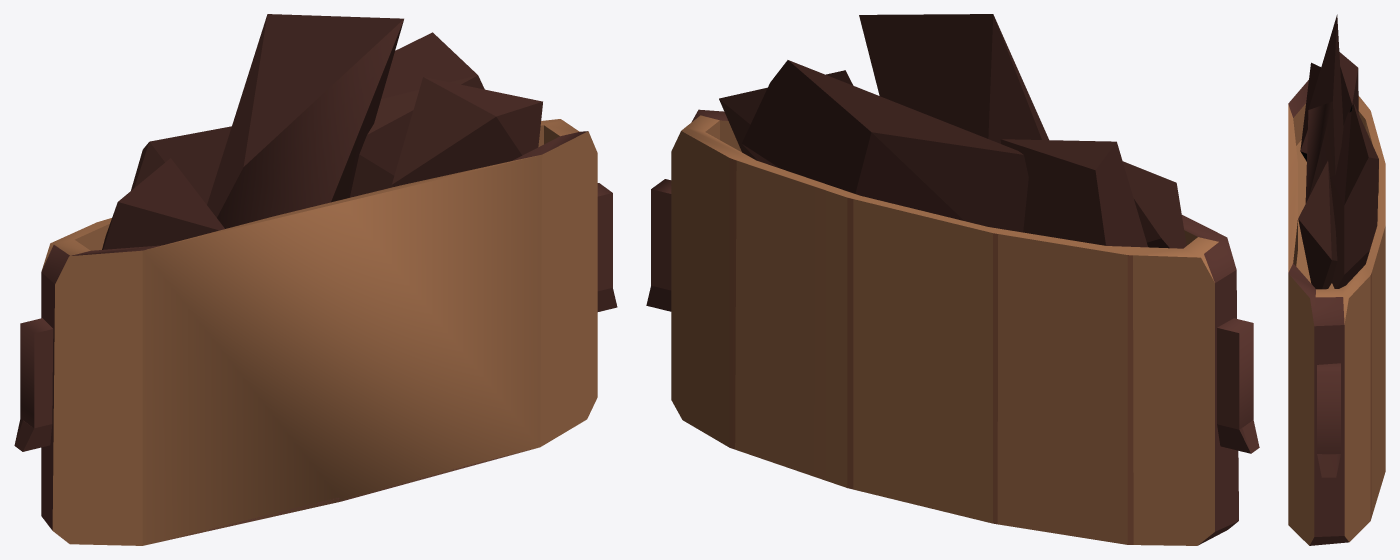
File: icon_coal_ore.fbx
The picture shows the model from 3 angles, left to right: view 1: azimuth 30°, elevation 25°; view 2: azimuth 150°, elevation 25°; view 3: azimuth 270°, elevation 25°; orthographic projection. The views are drawn at different scales.
Visible parts, largest first — view 1: icon_coal_ore; view 2: icon_coal_ore; view 3: icon_coal_ore.
Boxes of the visible parts, bbox=[...] form: icon_coal_ore: bbox=[14, 14, 617, 545]; icon_coal_ore: bbox=[646, 14, 1259, 545]; icon_coal_ore: bbox=[1288, 14, 1385, 545].
Bounding box in the file's own units: 43.01 × 33.06 × 7.08.
